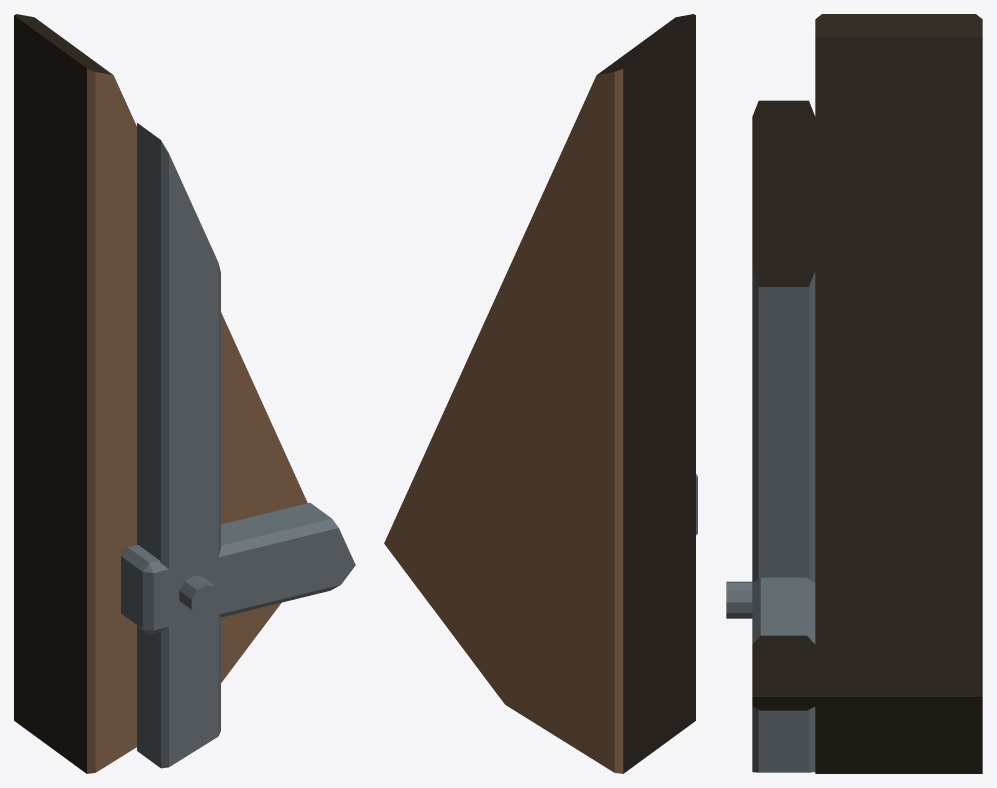
The model's file is SM_DoorShard_02_17.fbx.
The picture shows the model from 3 angles, left to right: view 1: azimuth 30°, elevation 25°; view 2: azimuth 150°, elevation 25°; view 3: azimuth 270°, elevation 25°; orthographic projection. The views are drawn at different scales.
Visible parts, largest first — view 1: SM_DoorShard_02_17; view 2: SM_DoorShard_02_17; view 3: SM_DoorShard_02_17.
Boxes of the visible parts, left/top/right/bottom form: SM_DoorShard_02_17: left=14, top=14, right=355, bottom=773; SM_DoorShard_02_17: left=384, top=14, right=697, bottom=773; SM_DoorShard_02_17: left=726, top=14, right=982, bottom=773.
Bounding box in the file's own units: 27.56 × 24.5 × 78.69.
